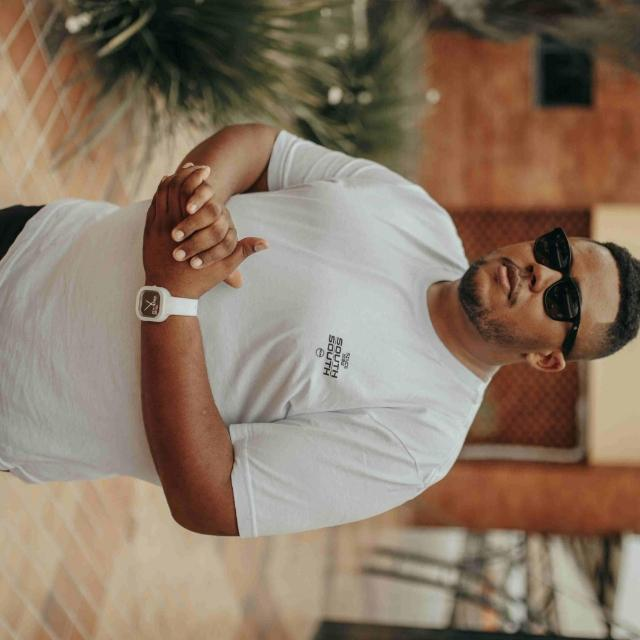Natural: (458, 194, 640, 390)
